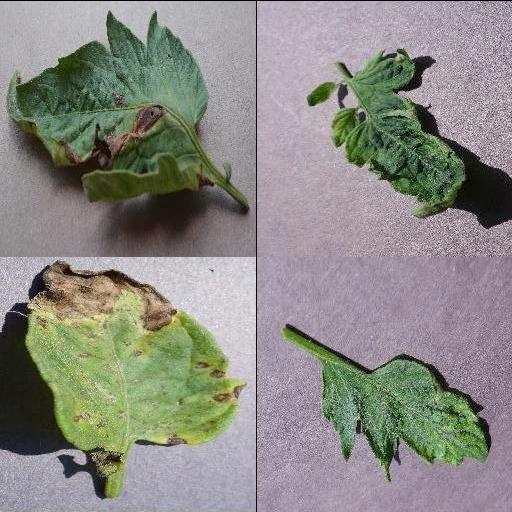Early Blight: (6, 12, 212, 200)
Mosaic Virus: (305, 47, 469, 221), (319, 354, 491, 484)
Septoria: (29, 257, 249, 453)
